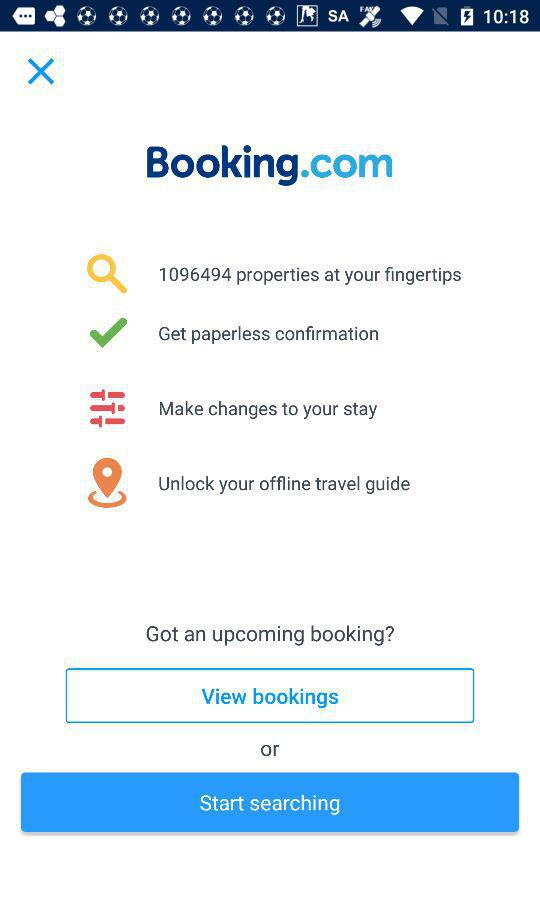Icon: (87, 458, 127, 510), (87, 254, 129, 296), (90, 389, 127, 429), (90, 318, 129, 349), (28, 58, 56, 86)
Image: (147, 145, 393, 188)
Text: (160, 267, 462, 286), (147, 625, 395, 647), (159, 475, 411, 495), (159, 325, 379, 345), (160, 400, 378, 420), (259, 740, 282, 762)
TextButton: (22, 772, 520, 833), (66, 668, 475, 724)
UpperTaskBar: (1, 1, 540, 33)
